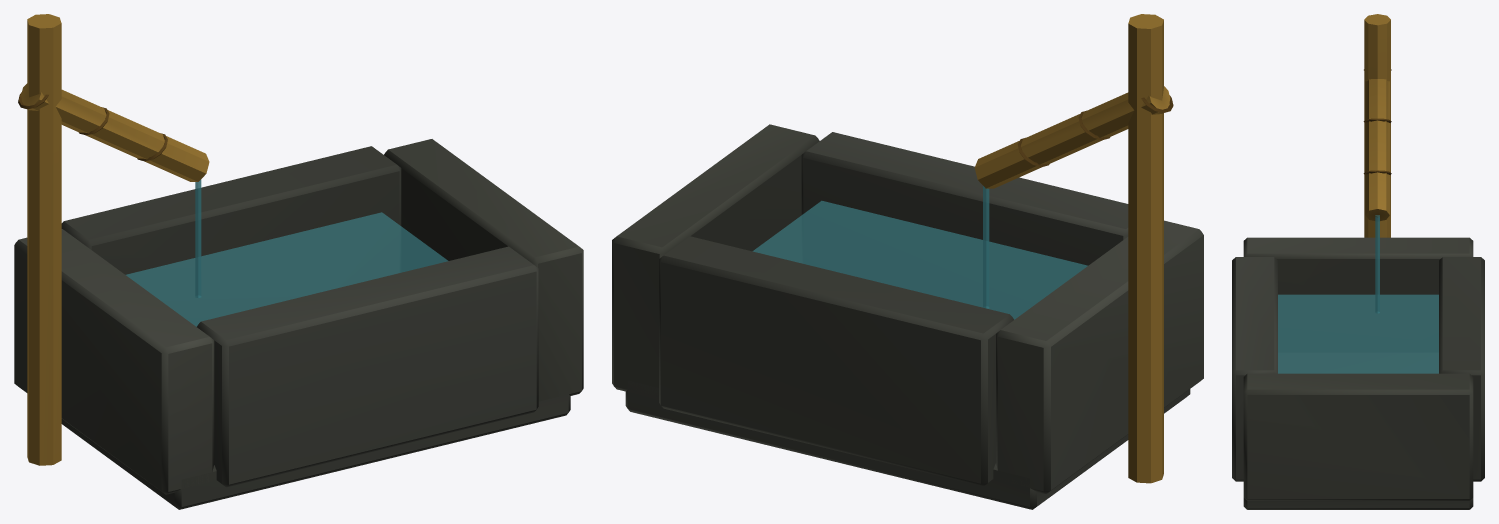
The model's file is tea-bamboo-basin.glb.
3 renders of one model, left to right at view 1: azimuth 30°, elevation 25°; view 2: azimuth 150°, elevation 25°; view 3: azimuth 270°, elevation 25°, orthographic. The views are drawn at different scales.
Visible parts, largest first — view 1: basin__stone, spout__bamboo, water__water; view 2: basin__stone, spout__bamboo, water__water; view 3: basin__stone, water__water, spout__bamboo.
Boxes of the visible parts, <box> form: basin__stone: <box>14,139,583,509</box>; spout__bamboo: <box>18,14,209,465</box>; water__water: <box>126,179,447,326</box>; basin__stone: <box>612,124,1203,509</box>; spout__bamboo: <box>974,14,1173,483</box>; water__water: <box>753,186,1087,319</box>; basin__stone: <box>1232,237,1484,509</box>; water__water: <box>1278,215,1438,373</box>; spout__bamboo: <box>1363,14,1391,237</box>.
Bounding box in the file's own units: 1.08 × 0.95 × 0.66.
